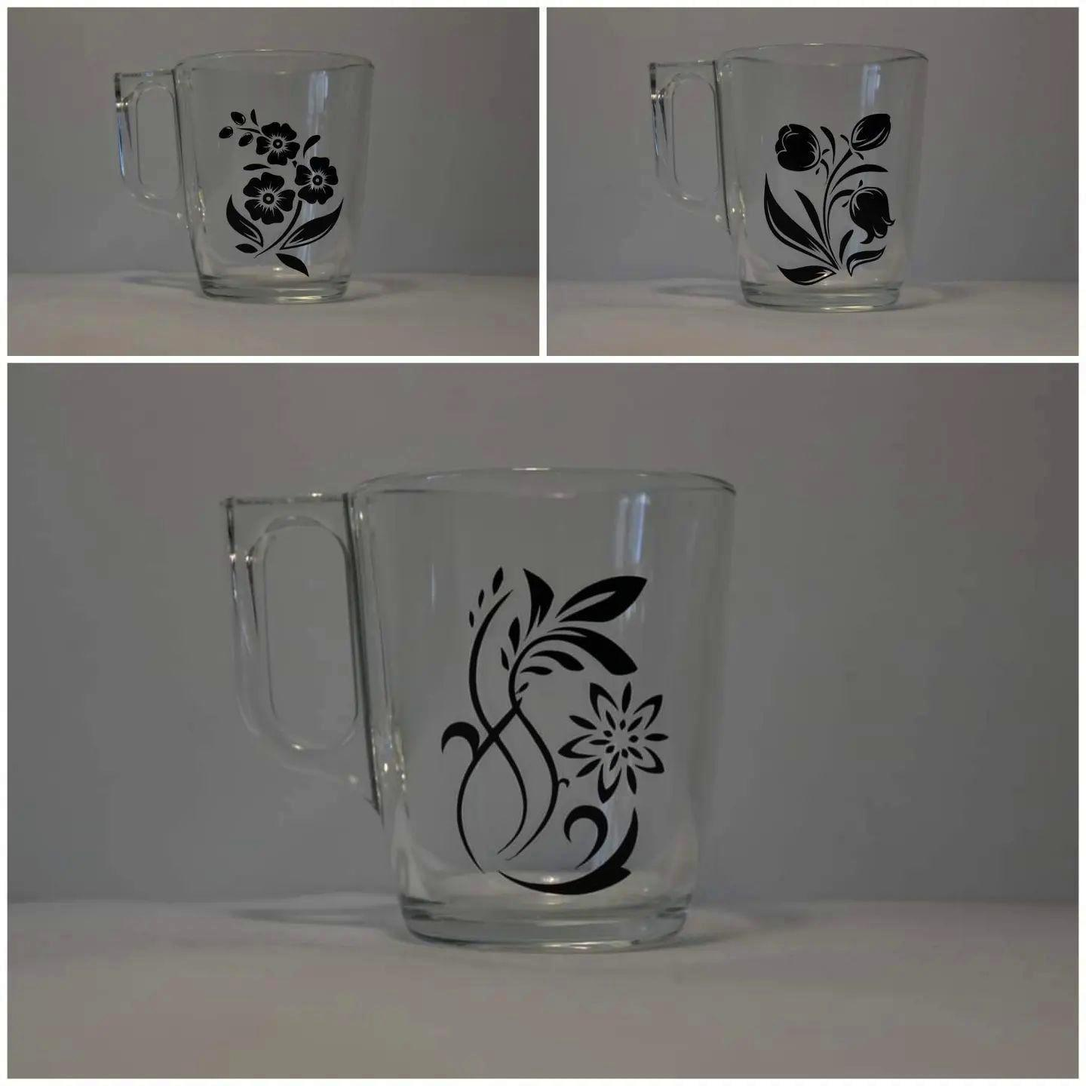glass-mug: (222, 450, 763, 954), (639, 32, 937, 320), (100, 44, 388, 304)
